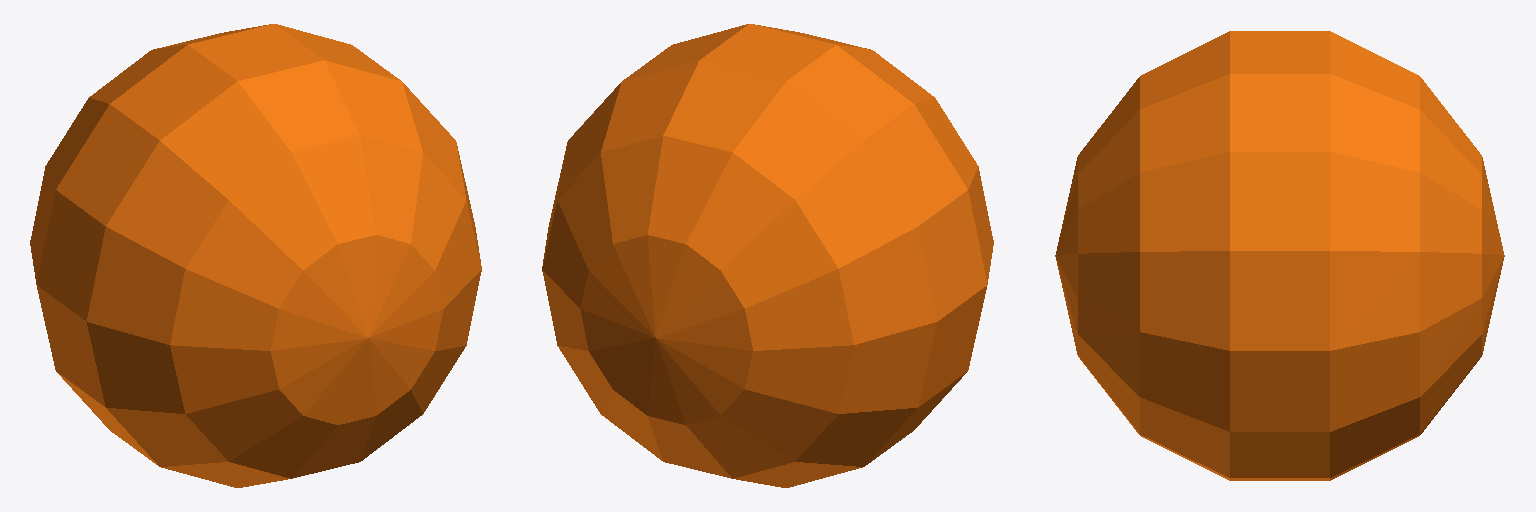
Rendered from sphere_orange.obj.
3 renders of one model, left to right at view 1: azimuth 30°, elevation 25°; view 2: azimuth 150°, elevation 25°; view 3: azimuth 270°, elevation 25°, orthographic.
Visible parts, largest first — view 1: obj_0; view 2: obj_0; view 3: obj_0.
Part boxes in pixels (x1,y1,x2,y2): obj_0: (30,24,481,487); obj_0: (542,24,993,487); obj_0: (1055,31,1504,480).
Bounding box in the file's own units: 2 × 2 × 2.